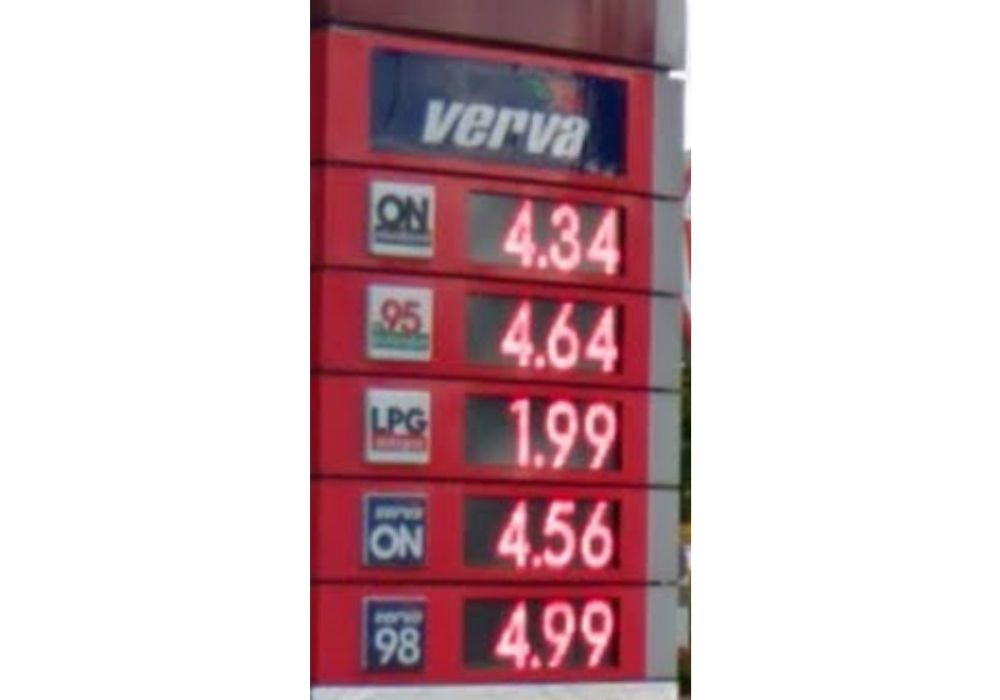LPG: (361, 387, 436, 467)
ON: (361, 178, 439, 259), (359, 493, 432, 572)
PB95: (362, 281, 437, 365)
PB98: (358, 594, 430, 679)
